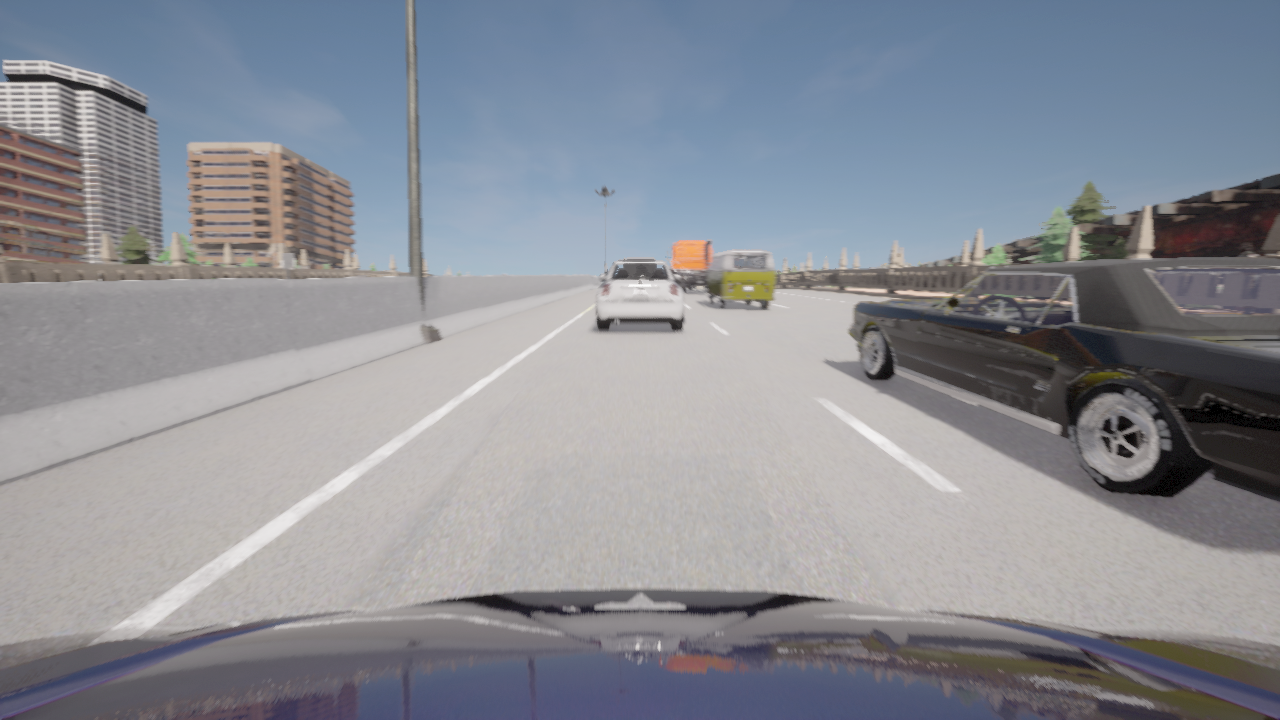cyclist: (0, 588, 1279, 719), (848, 259, 1279, 502), (595, 261, 684, 331), (705, 250, 774, 309), (665, 240, 712, 293), (626, 258, 654, 260), (687, 286, 695, 289)
pedestrian: (1239, 243, 1259, 256)
